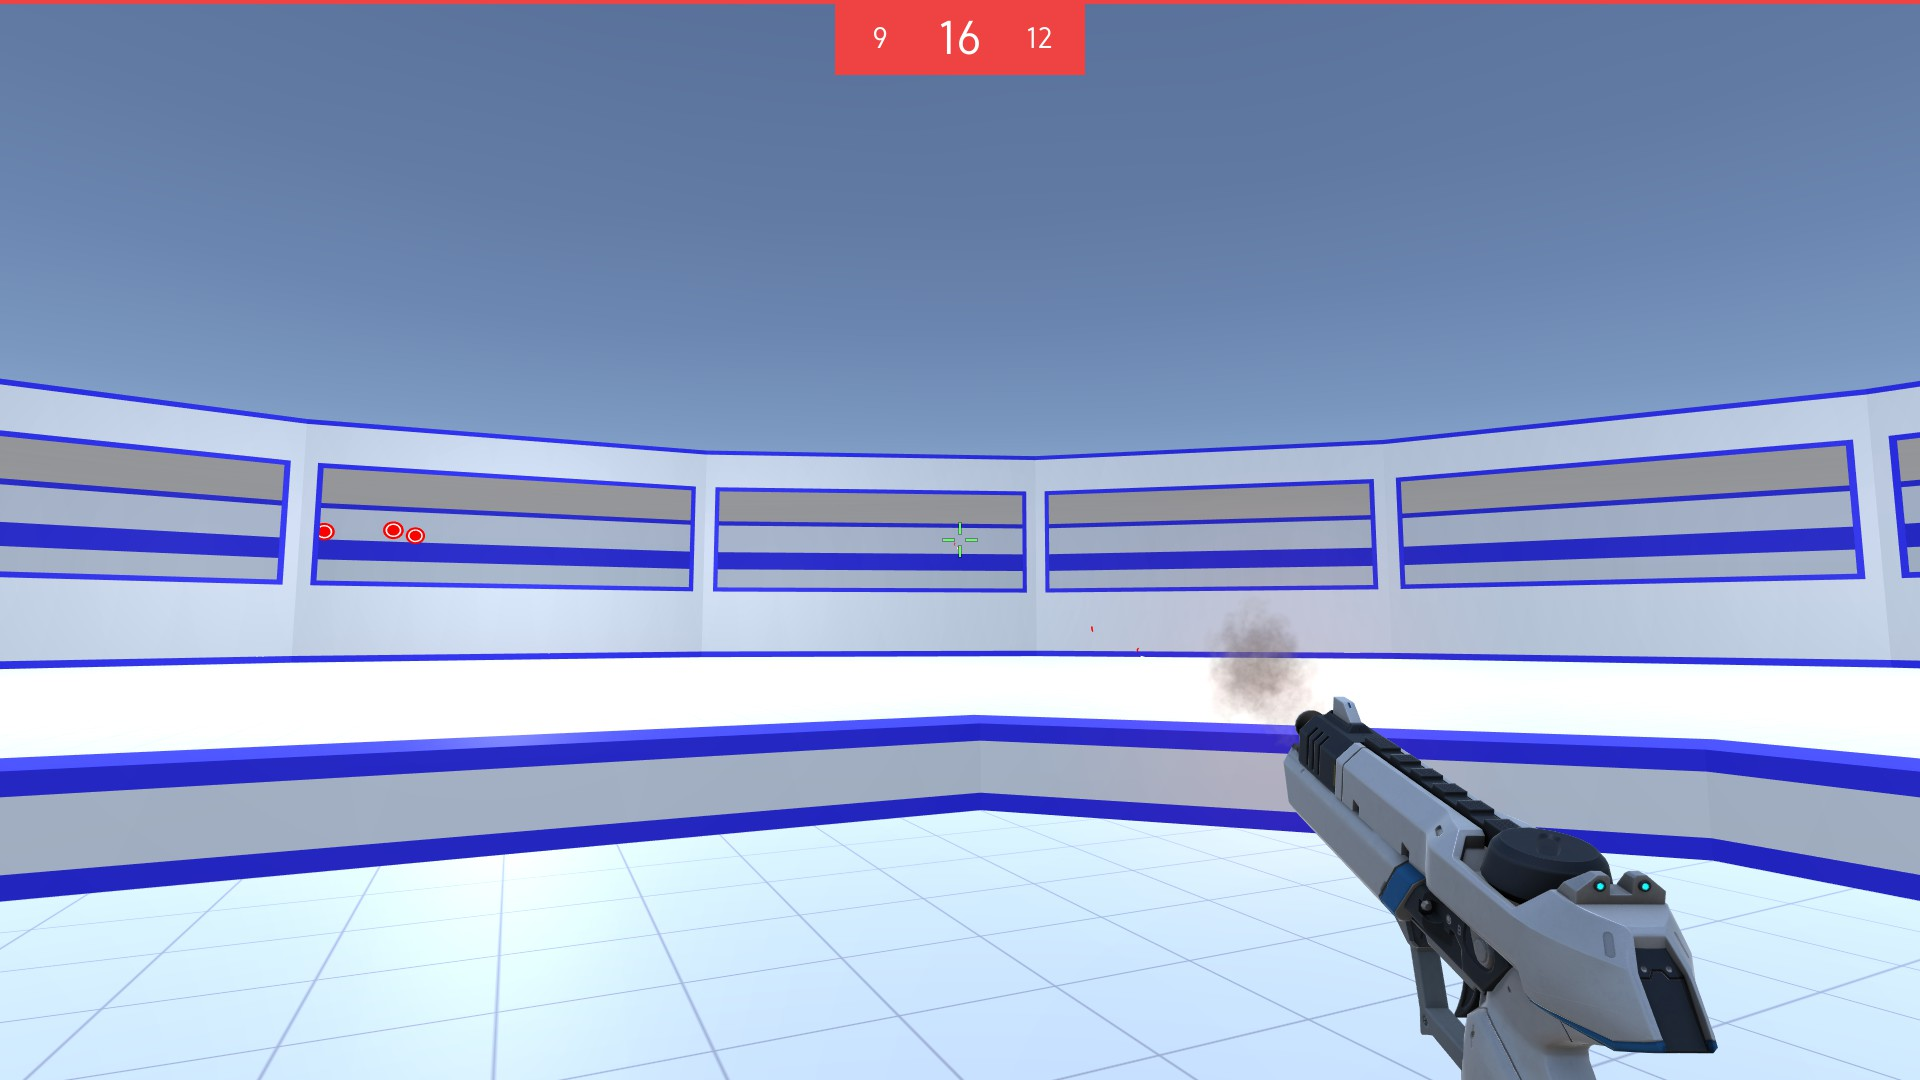target: (315, 520, 335, 541), (382, 520, 404, 539), (406, 527, 425, 543)
